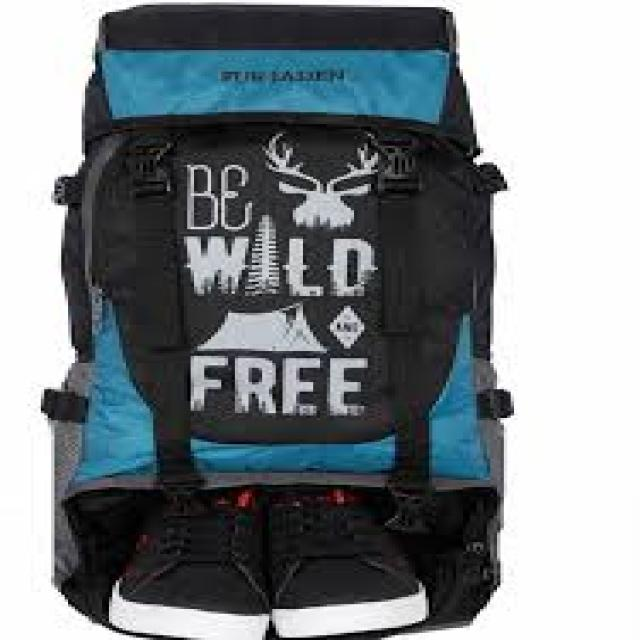backpack: (42, 1, 515, 639)
